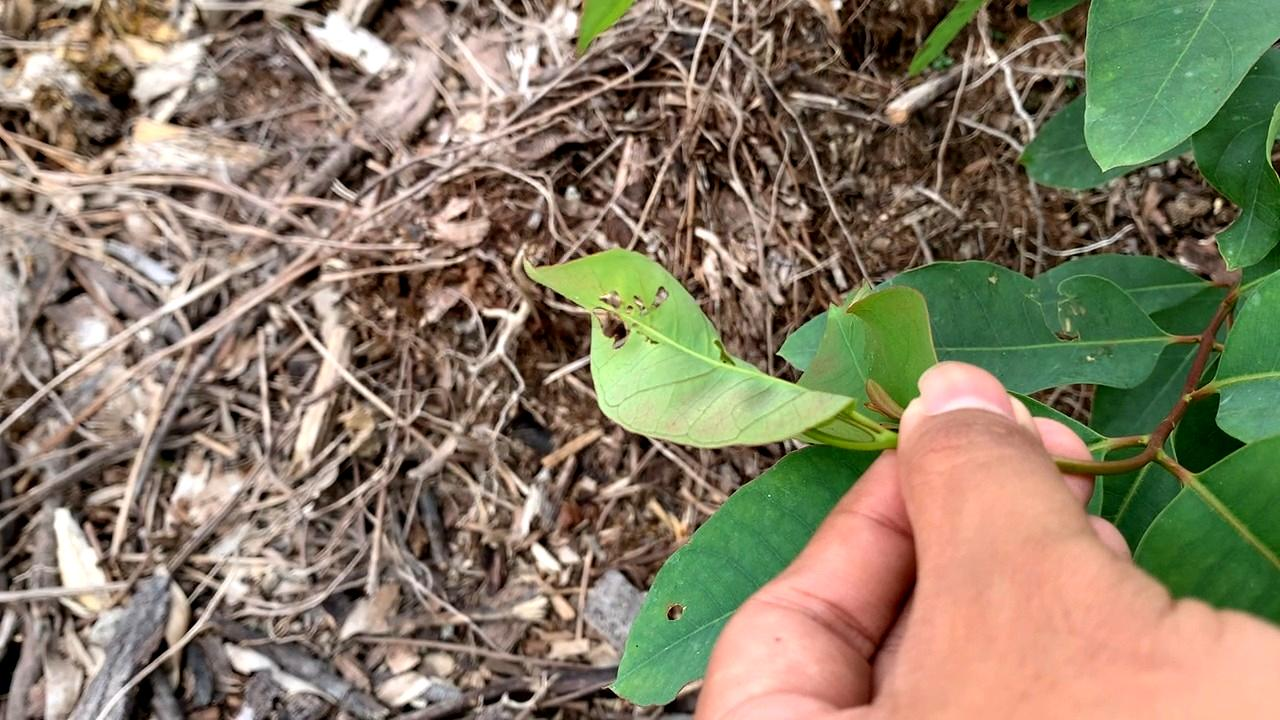Leaf Roller - Leaf: (525, 256, 853, 459)
